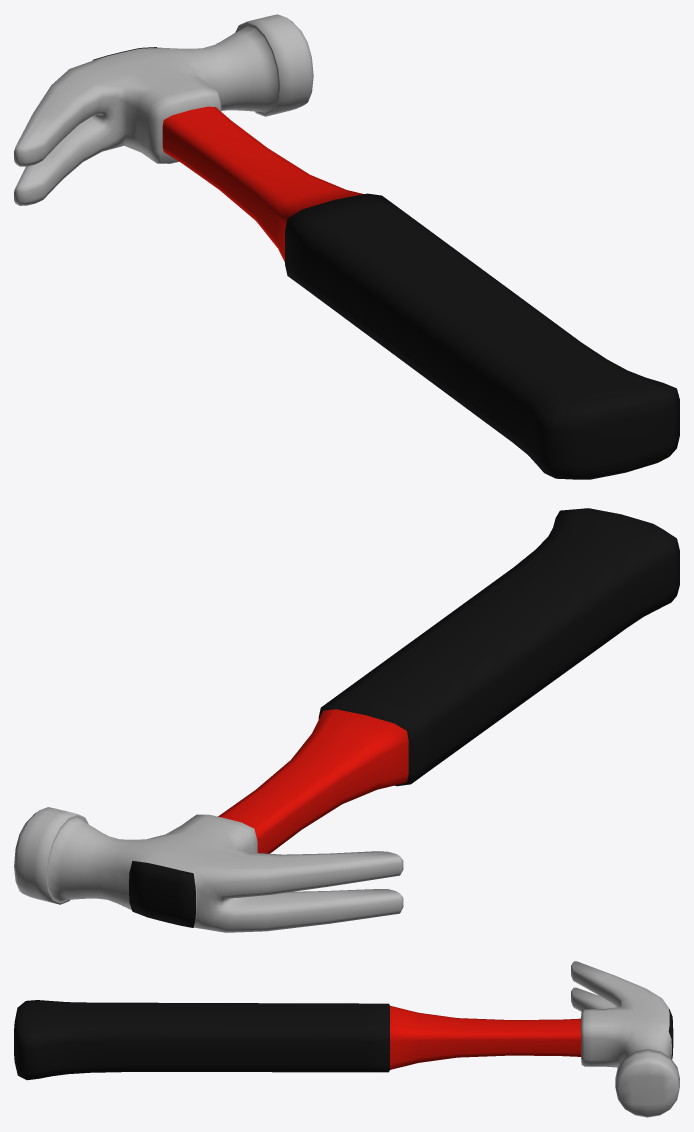
File: Palu.fbx
The picture shows the model from 3 angles, top to bottom: view 1: azimuth 30°, elevation 25°; view 2: azimuth 150°, elevation 25°; view 3: azimuth 270°, elevation 25°; orthographic projection. The views are drawn at different scales.
Visible parts, largest first — view 1: palu.001; view 2: palu.001; view 3: palu.001.
Boxes of the visible parts, box(x1,y1,x2,y2) form: palu.001: box(14, 14, 679, 479); palu.001: box(14, 508, 679, 932); palu.001: box(14, 961, 679, 1117).
Bounding box in the file's own units: 11.73 × 2.98 × 30.63.
